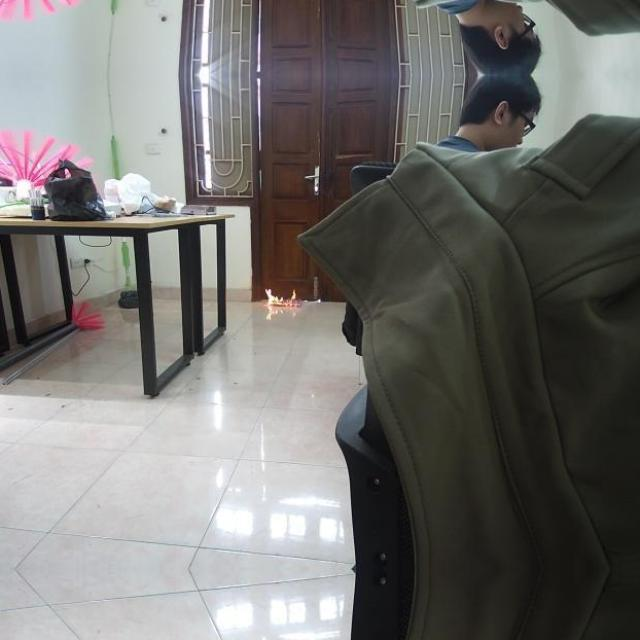smoke: (264, 286, 299, 308)
